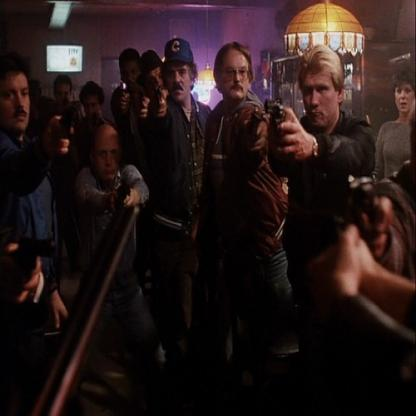Gun: (13, 232, 64, 281), (262, 90, 288, 132), (113, 180, 133, 210)
